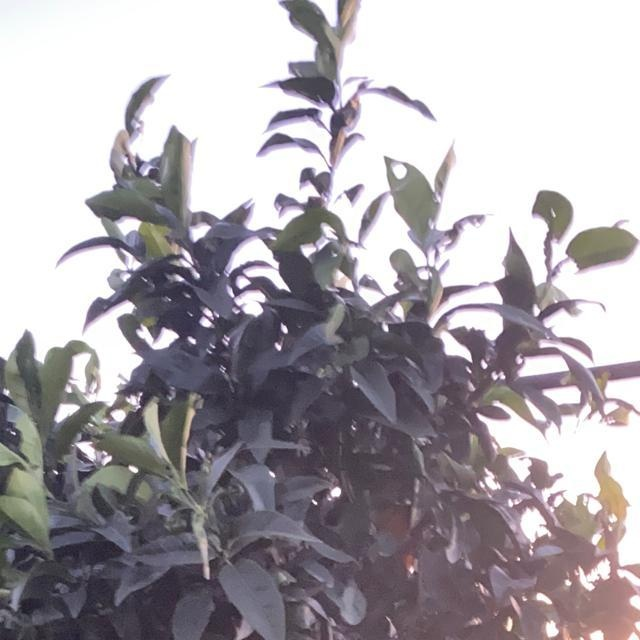orange: (383, 511, 419, 563)
